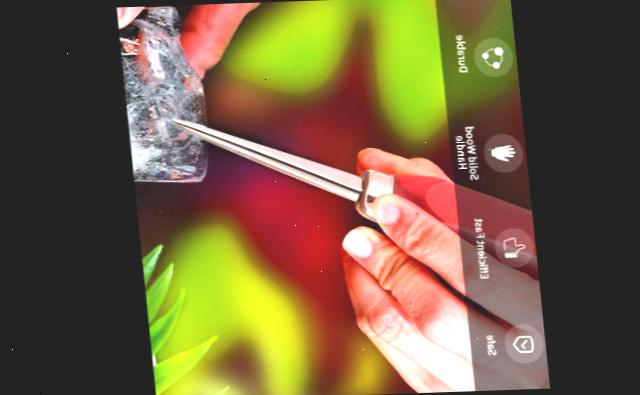ice pick: (154, 96, 536, 292)
